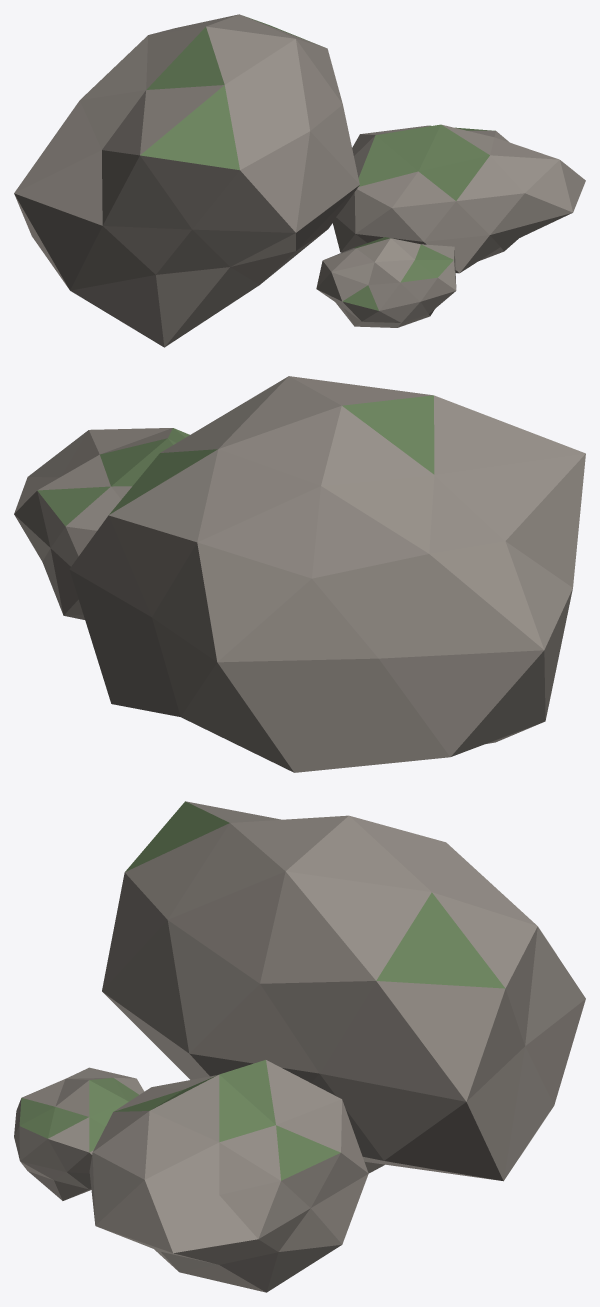
Rendered from boulder_b.glb.
3 views of the same model, one above another, from view 1: azimuth 30°, elevation 25°; view 2: azimuth 150°, elevation 25°; view 3: azimuth 270°, elevation 25° (orthographic). The views are drawn at different scales.
Visible parts, largest first — view 1: boulder_b; view 2: boulder_b; view 3: boulder_b.
Boxes of the visible parts, x1=… form: boulder_b: x1=14, y1=14, x2=585, y2=347; boulder_b: x1=14, y1=376, x2=585, y2=772; boulder_b: x1=14, y1=801, x2=585, y2=1292.
Size of the model in its own units: 2.84 by 1.56 by 2.2.
